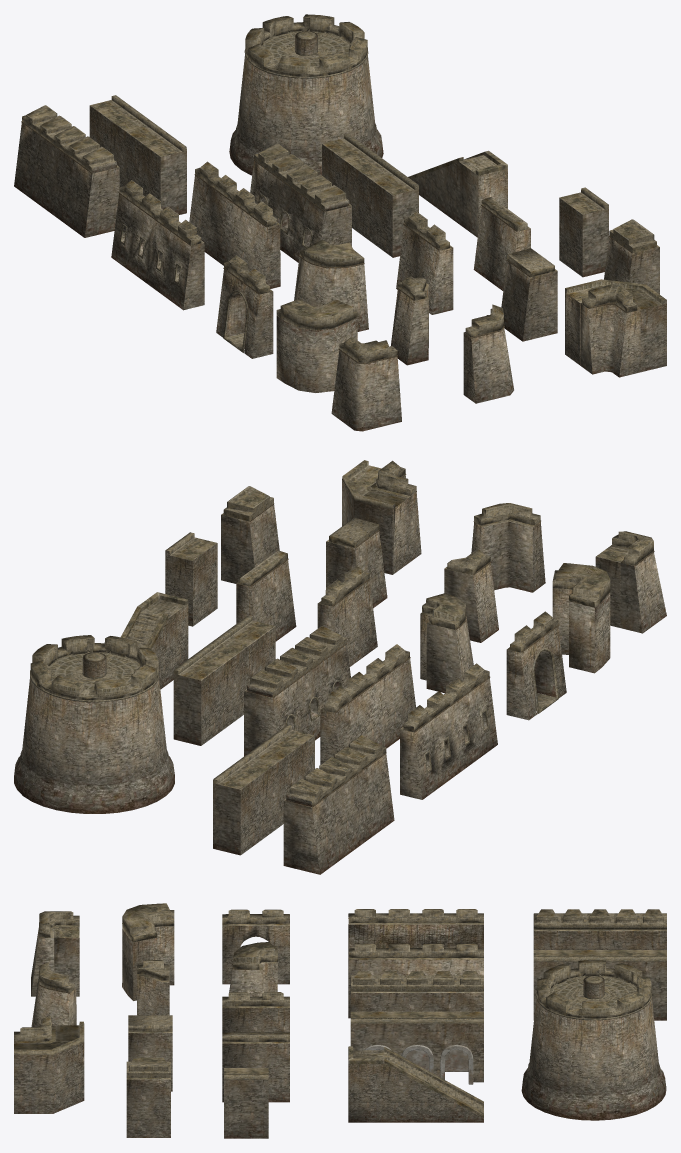
Rendered from fort.glb.
The picture shows the model from 3 angles, top to bottom: view 1: azimuth 30°, elevation 25°; view 2: azimuth 150°, elevation 25°; view 3: azimuth 270°, elevation 25°; orthographic projection. The views are drawn at different scales.
Visible parts, largest first — view 1: modular_fort_01_tower_round, modular_fort_01_wall_thick_straight_01, modular_fort_01_wall_thin_straight_02, modular_fort_01_wall_thick_straight_02, modular_fort_01_wall_thin_straight_01, modular_fort_01_wall_walkway_straight_01, modular_fort_01_wall_walkway_straight_02, modular_fort_01_wall_thick_corner_02, modular_fort_01_wall_thin_corner_02, modular_fort_01_wall_thin_corner_01, modular_fort_01_wall_stairs_straight_01, modular_fort_01_wall_thin_gate_01 (+9 smaller); view 2: modular_fort_01_tower_round, modular_fort_01_wall_thick_straight_01, modular_fort_01_wall_thin_straight_02, modular_fort_01_wall_walkway_straight_01, modular_fort_01_wall_walkway_straight_02, modular_fort_01_wall_thick_straight_02, modular_fort_01_wall_thin_straight_01, modular_fort_01_wall_thick_corner_02, modular_fort_01_wall_thin_corner_03, modular_fort_01_wall_thin_gate_01, modular_fort_01_wall_thick_corner_01, modular_fort_01_wall_thick_end_02 (+10 smaller); view 3: modular_fort_01_tower_round, modular_fort_01_wall_stairs_straight_01, modular_fort_01_wall_walkway_straight_01, modular_fort_01_wall_walkway_corner_01, modular_fort_01_wall_thick_straight_01, modular_fort_01_wall_thick_straight_02, modular_fort_01_wall_thin_straight_02, modular_fort_01_wall_thin_straight_01, modular_fort_01_wall_thick_corner_02, modular_fort_01_wall_thick_end_02, modular_fort_01_wall_walkway_straight_02, modular_fort_01_wall_thin_straight_03 (+10 smaller).
Part boxes in pixels (box(x1,y1,x2,y2)): modular_fort_01_tower_round: box(229, 14, 383, 175); modular_fort_01_wall_thick_straight_01: box(14, 105, 119, 237); modular_fort_01_wall_thin_straight_02: box(111, 180, 204, 310); modular_fort_01_wall_thick_straight_02: box(250, 143, 351, 262); modular_fort_01_wall_thin_straight_01: box(189, 161, 280, 288); modular_fort_01_wall_walkway_straight_01: box(322, 133, 418, 257); modular_fort_01_wall_walkway_straight_02: box(89, 95, 186, 214); modular_fort_01_wall_thick_corner_02: box(276, 298, 357, 392); modular_fort_01_wall_thin_corner_02: box(331, 336, 401, 431); modular_fort_01_wall_thin_corner_01: box(580, 284, 640, 377); modular_fort_01_wall_stairs_straight_01: box(408, 150, 507, 237); modular_fort_01_wall_thin_gate_01: box(216, 255, 273, 358); modular_fort_01_tower_round: box(14, 635, 174, 813); modular_fort_01_wall_thick_straight_01: box(283, 735, 394, 874); modular_fort_01_wall_thin_straight_02: box(400, 663, 497, 799); modular_fort_01_wall_walkway_straight_01: box(173, 615, 275, 745); modular_fort_01_wall_walkway_straight_02: box(213, 724, 314, 855); modular_fort_01_wall_thick_straight_02: box(244, 626, 350, 756); modular_fort_01_wall_thin_straight_01: box(320, 644, 415, 764); modular_fort_01_wall_thick_corner_02: box(552, 563, 610, 673); modular_fort_01_wall_thin_corner_03: box(471, 503, 545, 592); modular_fort_01_wall_thin_gate_01: box(506, 611, 566, 720); modular_fort_01_wall_thick_corner_01: box(420, 593, 473, 693); modular_fort_01_wall_thick_end_02: box(221, 486, 279, 583); modular_fort_01_tower_round: box(521, 960, 666, 1120); modular_fort_01_wall_stairs_straight_01: box(348, 1046, 483, 1122); modular_fort_01_wall_walkway_straight_01: box(350, 1011, 483, 1084); modular_fort_01_wall_walkway_corner_01: box(14, 1021, 84, 1113); modular_fort_01_wall_thick_straight_01: box(533, 909, 666, 949); modular_fort_01_wall_thick_straight_02: box(350, 971, 483, 1011); modular_fort_01_wall_thin_straight_02: box(348, 909, 483, 951); modular_fort_01_wall_thin_straight_01: box(348, 943, 483, 1018); modular_fort_01_wall_thick_corner_02: box(122, 903, 174, 1000); modular_fort_01_wall_thick_end_02: box(126, 1057, 170, 1137); modular_fort_01_wall_walkway_straight_02: box(533, 949, 666, 1020); modular_fort_01_wall_thin_straight_03: box(222, 1032, 289, 1102).
Bounding box in the file's own units: 42.67 × 13.67 × 71.38.
3 materials, 3 textured.
